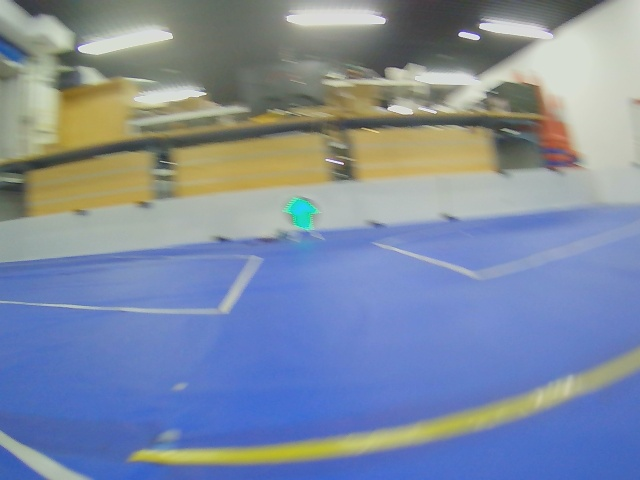straight_green: (283, 197, 320, 231)
